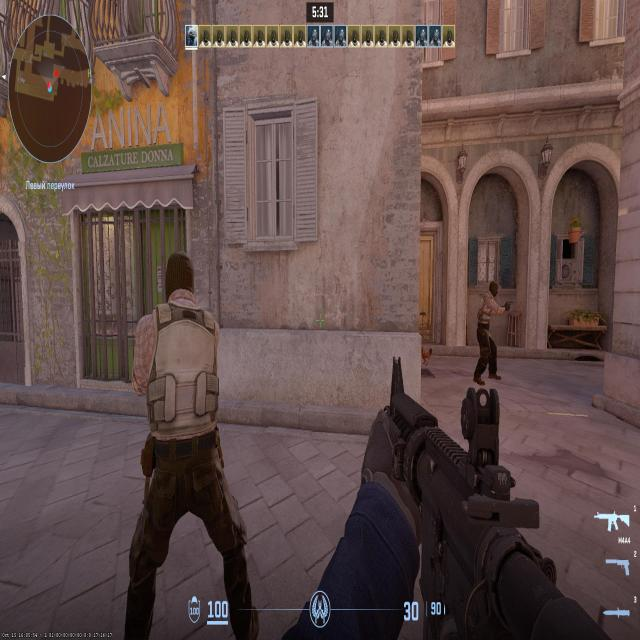T: (162, 260, 223, 544), (486, 284, 498, 370)
T_heat: (172, 261, 188, 298), (493, 282, 498, 300)
